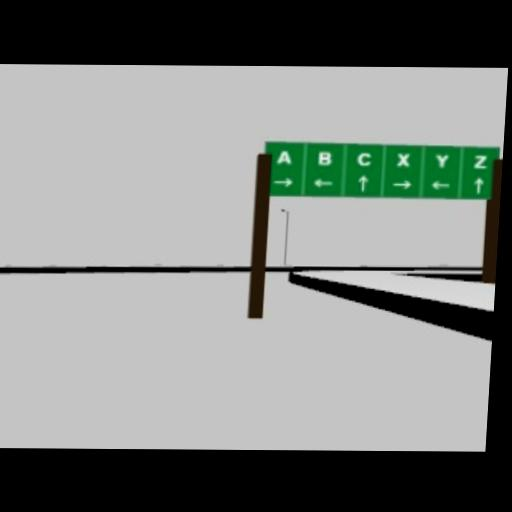A: (275, 150, 291, 165)
B: (317, 150, 331, 165)
C: (357, 152, 371, 165)
Left: (312, 178, 335, 187)
Right: (429, 179, 452, 189), (391, 179, 412, 189), (272, 176, 293, 186)
Straight: (357, 173, 368, 190), (473, 176, 484, 193)
X: (396, 153, 410, 166)
Y: (434, 153, 450, 168)
Z: (473, 155, 487, 168)
